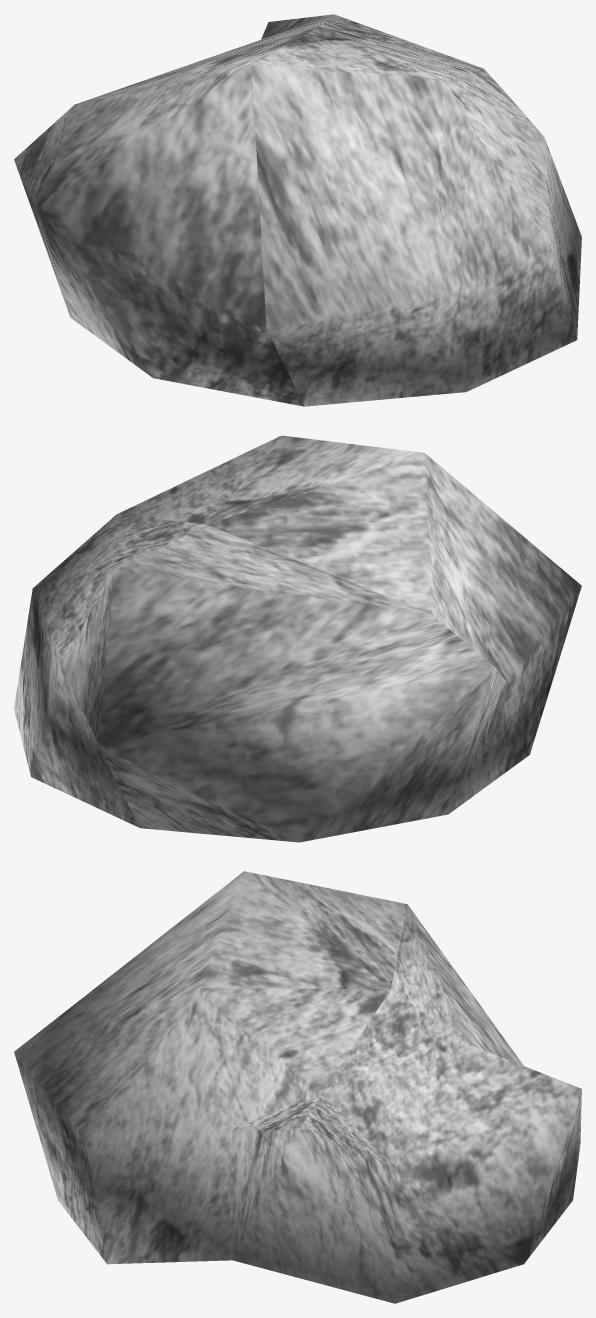
File: MRockLowPoly.fbx
The picture shows the model from 3 angles, top to bottom: view 1: azimuth 30°, elevation 25°; view 2: azimuth 150°, elevation 25°; view 3: azimuth 270°, elevation 25°; orthographic projection. The views are drawn at different scales.
Visible parts, largest first — view 1: Icosphere.001; view 2: Icosphere.001; view 3: Icosphere.001.
Boxes of the visible parts, x1=… form: Icosphere.001: x1=14, y1=14, x2=581, y2=406; Icosphere.001: x1=14, y1=435, x2=581, y2=842; Icosphere.001: x1=14, y1=871, x2=581, y2=1303.
Bounding box in the file's own units: 212 × 117 × 221.
